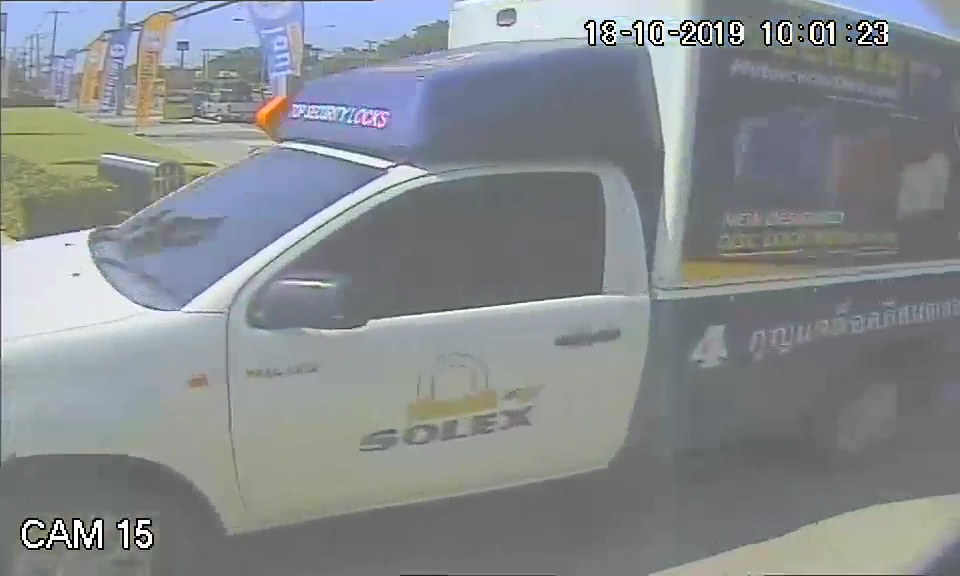pickup: (4, 114, 952, 516)
